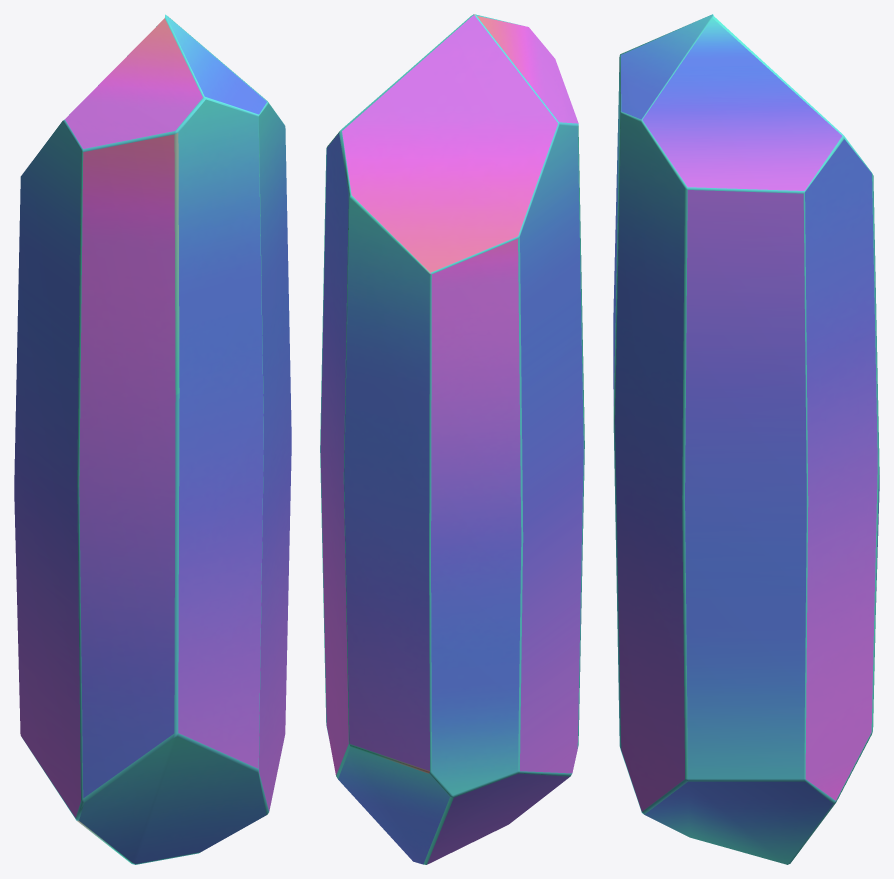
Rendered from Desert_Crystal.fbx.
3 views of the same model, side by side, from view 1: azimuth 30°, elevation 25°; view 2: azimuth 150°, elevation 25°; view 3: azimuth 270°, elevation 25° (orthographic). The views are drawn at different scales.
Parts seen in each view (by area): view 1: Crystal; view 2: Crystal; view 3: Crystal.
Boxes of the visible parts, x1,y1,x2,y2 form: Crystal: (14,14,291,864); Crystal: (320,14,584,864); Crystal: (613,14,879,864).
Size of the model in its own units: 1.78 by 6.88 by 1.98.
1 material, 1 textured.
